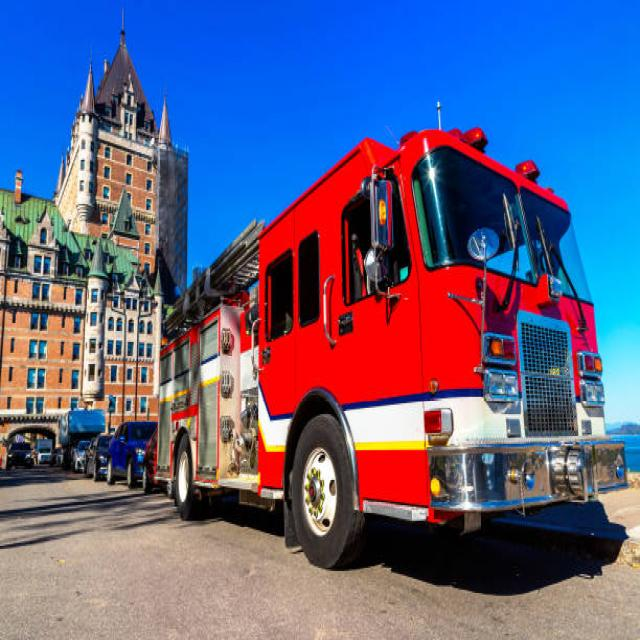emergency: (158, 129, 625, 567)
